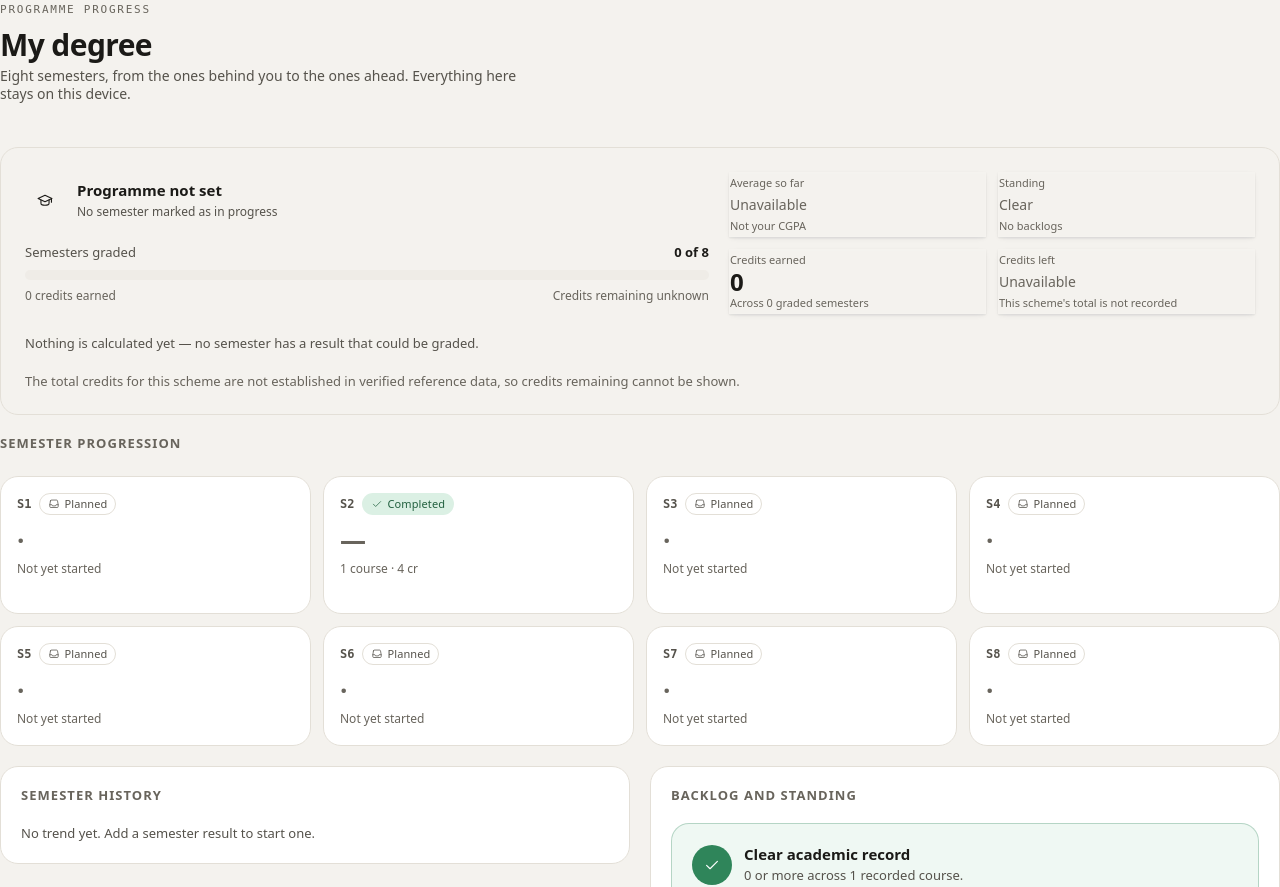
a semester whose rules this build does not have › says which rules are missing rather than leaving a silent blank
Click the button "S2 Completed — 1 course · 4 cr" at (408, 504), box [323, 476, 634, 614]
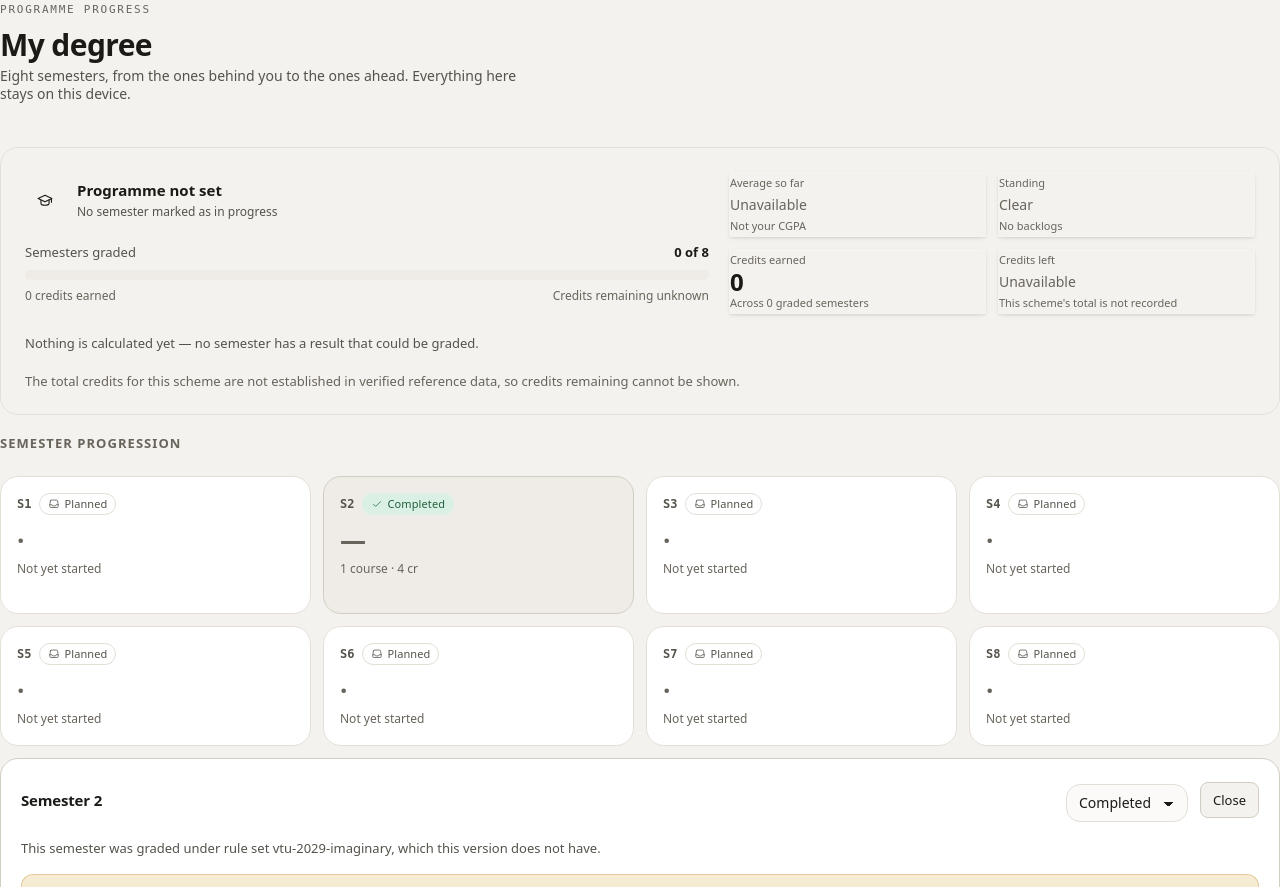
Now the text "vtu-2029-imaginary" is shown, box [21, 839, 601, 857]
